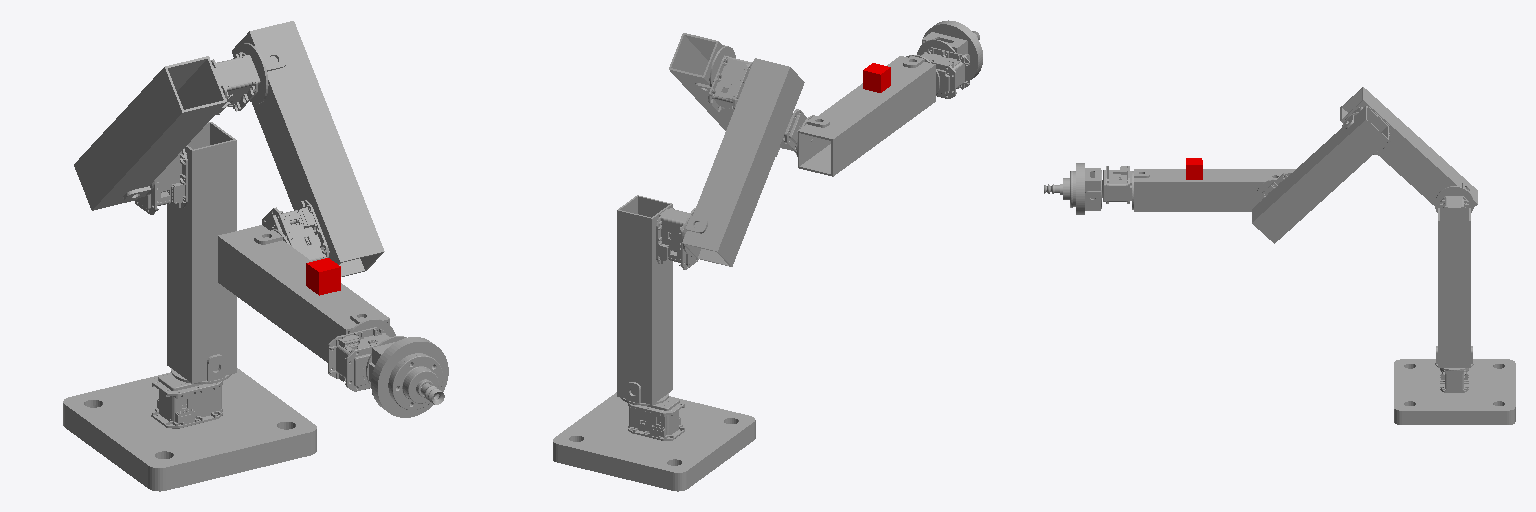
robot.urdf — kevin:
<?xml version="1.0" ?>
<!-- =================================================================================== -->
<!-- |    This document was autogenerated by xacro from urdf/kevin.xacro               | -->
<!-- |    EDITING THIS FILE BY HAND IS NOT RECOMMENDED                                 | -->
<!-- =================================================================================== -->
<robot name="kevin" xmlns:xacro="http://www.ros.org/wiki/xacro">
  <material name="silver">
    <color rgba="0.700 0.700 0.700 1.000"/>
  </material>
  <transmission name="Revolution31">
    <type>transmission_interface/SimpleTransmission</type>
    <joint name="Revolution31">
      <hardwareInterface>hardware_interface/EffortJointInterface</hardwareInterface>
    </joint>
    <actuator name="Revolution31_actr">
      <hardwareInterface>hardware_interface/EffortJointInterface</hardwareInterface>
      <mechanicalReduction>1</mechanicalReduction>
    </actuator>
  </transmission>
  <transmission name="Revolution32">
    <type>transmission_interface/SimpleTransmission</type>
    <joint name="Revolution32">
      <hardwareInterface>hardware_interface/EffortJointInterface</hardwareInterface>
    </joint>
    <actuator name="Revolution32_actr">
      <hardwareInterface>hardware_interface/EffortJointInterface</hardwareInterface>
      <mechanicalReduction>1</mechanicalReduction>
    </actuator>
  </transmission>
  <transmission name="Revolution33">
    <type>transmission_interface/SimpleTransmission</type>
    <joint name="Revolution33">
      <hardwareInterface>hardware_interface/EffortJointInterface</hardwareInterface>
    </joint>
    <actuator name="Revolution33_actr">
      <hardwareInterface>hardware_interface/EffortJointInterface</hardwareInterface>
      <mechanicalReduction>1</mechanicalReduction>
    </actuator>
  </transmission>
  <transmission name="Revolution34">
    <type>transmission_interface/SimpleTransmission</type>
    <joint name="Revolution34">
      <hardwareInterface>hardware_interface/EffortJointInterface</hardwareInterface>
    </joint>
    <actuator name="Revolution34_actr">
      <hardwareInterface>hardware_interface/EffortJointInterface</hardwareInterface>
      <mechanicalReduction>1</mechanicalReduction>
    </actuator>
  </transmission>
  <transmission name="Revolution35">
    <type>transmission_interface/SimpleTransmission</type>
    <joint name="Revolution35">
      <hardwareInterface>hardware_interface/EffortJointInterface</hardwareInterface>
    </joint>
    <actuator name="Revolution35_actr">
      <hardwareInterface>hardware_interface/EffortJointInterface</hardwareInterface>
      <mechanicalReduction>1</mechanicalReduction>
    </actuator>
  </transmission>
  <gazebo>
    <plugin filename="libgazebo_ros_control.so" name="gazebo_ros_control">
      <robotNamespace/>
      <robotSimType>gazebo_ros_control/DefaultRobotHWSim</robotSimType>
      <legacyModeNS>true</legacyModeNS>
    </plugin>
  </gazebo>
  <gazebo reference="base_link">
    <material>Gazebo/Silver</material>
    <mu1>0.2</mu1>
    <mu2>0.2</mu2>
    <selfCollide>true</selfCollide>
    <gravity>true</gravity>
  </gazebo>
  <gazebo reference="Link_1_1">
    <material>Gazebo/Silver</material>
    <mu1>0.2</mu1>
    <mu2>0.2</mu2>
    <selfCollide>true</selfCollide>
  </gazebo>
  <gazebo reference="Link_2_1">
    <material>Gazebo/Silver</material>
    <mu1>0.2</mu1>
    <mu2>0.2</mu2>
    <selfCollide>true</selfCollide>
  </gazebo>
  <gazebo reference="Link_3_1">
    <material>Gazebo/Silver</material>
    <mu1>0.2</mu1>
    <mu2>0.2</mu2>
    <selfCollide>true</selfCollide>
  </gazebo>
  <gazebo reference="Link_4_1">
    <material>Gazebo/Silver</material>
    <mu1>0.2</mu1>
    <mu2>0.2</mu2>
    <selfCollide>true</selfCollide>
  </gazebo>
  <gazebo reference="Link_5_1">
    <material>Gazebo/Silver</material>
    <mu1>0.2</mu1>
    <mu2>0.2</mu2>
    <selfCollide>true</selfCollide>
  </gazebo>
  <gazebo reference="camera_link">
    <material>Gazebo/Red</material>
  </gazebo>
  <!-- camera -->
  <gazebo reference="camera_link">
    <sensor name="camera1" type="camera">
      <update_rate>30.0</update_rate>
      <camera name="head">
        <horizontal_fov>1.3962634</horizontal_fov>
        <image>
          <width>800</width>
          <height>800</height>
          <format>R8G8B8</format>
        </image>
        <clip>
          <near>0.002</near>
          <far>300</far>
        </clip>
        <noise>
          <type>gaussian</type>
          <!-- Noise is sampled independently per pixel on each frame.
               That pixel's noise value is added to each of its color
               channels, which at that point lie in the range [0,1]. -->
          <mean>0.0</mean>
          <stddev>0.007</stddev>
        </noise>
      </camera>
      <plugin filename="libgazebo_ros_camera.so" name="camera_controller">
        <alwaysOn>true</alwaysOn>
        <updateRate>0.0</updateRate>
        <cameraName>camera1</cameraName>
        <imageTopicName>image_raw</imageTopicName>
        <cameraInfoTopicName>camera_info</cameraInfoTopicName>
        <frameName>camera_link</frameName>
        <hackBaseline>0.07</hackBaseline>
        <distortionK1>0.0</distortionK1>
        <distortionK2>0.0</distortionK2>
        <distortionK3>0.0</distortionK3>
        <distortionT1>0.0</distortionT1>
        <distortionT2>0.0</distortionT2>
      </plugin>
    </sensor>
  </gazebo>
  <material name="red">
    <color rgba="1 0.0 0.0 1.000"/>
  </material>
  <!-- Size of square 'camera' box -->
  <joint name="camera_joint" type="fixed">
    <axis xyz="0 0 0"/>
    <origin rpy="0 0 -1.57" xyz="-0.02 -0.1 0.03"/>
    <parent link="Link_4_1"/>
    <child link="camera_link"/>
  </joint>
  <!-- Camera -->
  <link name="camera_link">
    <collision>
      <origin rpy="0 0 0" xyz="0 0 0"/>
      <geometry>
        <box size="0.02 0.02 0.02"/>
      </geometry>
    </collision>
    <visual>
      <origin rpy="0 0 0" xyz="0 0 0"/>
      <geometry>
        <box size="0.02 0.02 0.02"/>
      </geometry>
      <material name="red"/>
    </visual>
    <inertial>
      <mass value="1e-5"/>
      <origin rpy="0 0 0" xyz="0 0 0"/>
      <inertia ixx="1e-6" ixy="0" ixz="0" iyy="1e-6" iyz="0" izz="1e-6"/>
    </inertial>
  </link>
  <link name="base_link">
    <inertial>
      <origin rpy="0 0 0" xyz="-0.07500900413459072 0.07499878591110573 0.010035808613354931"/>
      <mass value="3.3827666003481562"/>
      <inertia ixx="0.00634" ixy="-0.0" ixz="1e-06" iyy="0.006337" iyz="0.0" izz="0.012426"/>
    </inertial>
    <visual>
      <origin rpy="0 0 0" xyz="0 0 0"/>
      <geometry>
        <mesh filename="package://kevin_description/meshes/base_link.stl" scale="0.001 0.001 0.001"/>
      </geometry>
      <material name="silver"/>
    </visual>
    <collision>
      <origin rpy="0 0 0" xyz="0 0 0"/>
      <geometry>
        <mesh filename="package://kevin_description/meshes/base_link.stl" scale="0.001 0.001 0.001"/>
      </geometry>
    </collision>
  </link>
  <link name="Link_1_1">
    <inertial>
      <origin rpy="0 0 0" xyz="-0.0015441084349696876 -6.6837240350753335e-06 0.1039912626175992"/>
      <mass value="0.5045589007213359"/>
      <inertia ixx="0.001909" ixy="-0.0" ixz="5e-05" iyy="0.001934" iyz="0.0" izz="0.000262"/>
    </inertial>
    <visual>
      <origin rpy="0 0 0" xyz="0.064323 -0.074799 -0.053627"/>
      <geometry>
        <mesh filename="package://kevin_description/meshes/Link_1_1.stl" scale="0.001 0.001 0.001"/>
      </geometry>
      <material name="silver"/>
    </visual>
    <collision>
      <origin rpy="0 0 0" xyz="0.064323 -0.074799 -0.053627"/>
      <geometry>
        <mesh filename="package://kevin_description/meshes/Link_1_1.stl" scale="0.001 0.001 0.001"/>
      </geometry>
    </collision>
  </link>
  <link name="Link_2_1">
    <inertial>
      <origin rpy="0 0 0" xyz="-0.021316145986816276 -0.05651058335050174 0.05659164796984706"/>
      <mass value="0.5045589194139898"/>
      <inertia ixx="0.001867" ixy="2.2e-05" ixz="-2.4e-05" iyy="0.001083" iyz="0.000815" izz="0.001078"/>
    </inertial>
    <visual>
      <origin rpy="0 0 0" xyz="0.120064 -0.074708 -0.244413"/>
      <geometry>
        <mesh filename="package://kevin_description/meshes/Link_2_1.stl" scale="0.001 0.001 0.001"/>
      </geometry>
      <material name="silver"/>
    </visual>
    <collision>
      <origin rpy="0 0 0" xyz="0.120064 -0.074708 -0.244413"/>
      <geometry>
        <mesh filename="package://kevin_description/meshes/Link_2_1.stl" scale="0.001 0.001 0.001"/>
      </geometry>
    </collision>
  </link>
  <link name="Link_3_1">
    <inertial>
      <origin rpy="0 0 0" xyz="0.02098034285000687 -0.051351832195375195 -0.05201761409226252"/>
      <mass value="0.5045589000535378"/>
      <inertia ixx="0.001843" ixy="-2.1e-05" ixz="-2.2e-05" iyy="0.00107" iyz="-0.000803" izz="0.001066"/>
    </inertial>
    <visual>
      <origin rpy="0 0 0" xyz="0.08731 0.040026 -0.362097"/>
      <geometry>
        <mesh filename="package://kevin_description/meshes/Link_3_1.stl" scale="0.001 0.001 0.001"/>
      </geometry>
      <material name="silver"/>
    </visual>
    <collision>
      <origin rpy="0 0 0" xyz="0.08731 0.040026 -0.362097"/>
      <geometry>
        <mesh filename="package://kevin_description/meshes/Link_3_1.stl" scale="0.001 0.001 0.001"/>
      </geometry>
    </collision>
  </link>
  <link name="Link_4_1">
    <inertial>
      <origin rpy="0 0 0" xyz="-0.023305400358932027 -0.07835640375461944 2.6229984602388345e-05"/>
      <mass value="0.5096750020889563"/>
      <inertia ixx="0.002064" ixy="-4.1e-05" ixz="0.0" iyy="0.000246" iyz="2e-06" izz="0.002071"/>
    </inertial>
    <visual>
      <origin rpy="0 0 0" xyz="0.120064 0.146092 -0.253375"/>
      <geometry>
        <mesh filename="package://kevin_description/meshes/Link_4_1.stl" scale="0.001 0.001 0.001"/>
      </geometry>
      <material name="silver"/>
    </visual>
    <collision>
      <origin rpy="0 0 0" xyz="0.120064 0.146092 -0.253375"/>
      <geometry>
        <mesh filename="package://kevin_description/meshes/Link_4_1.stl" scale="0.001 0.001 0.001"/>
      </geometry>
    </collision>
  </link>
  <link name="Link_5_1">
    <inertial>
      <origin rpy="0 0 0" xyz="-0.00026252289388073446 -0.030396403000808536 8.109964721125795e-05"/>
      <mass value="0.4083077929947924"/>
      <inertia ixx="0.00013" ixy="-0.0" ixz="0.0" iyy="0.000176" iyz="0.0" izz="0.000132"/>
    </inertial>
    <visual>
      <origin rpy="0 0 0" xyz="0.14351 0.35822 -0.254287"/>
      <geometry>
        <mesh filename="package://kevin_description/meshes/Link_5_1.stl" scale="0.001 0.001 0.001"/>
      </geometry>
      <material name="silver"/>
    </visual>
    <collision>
      <origin rpy="0 0 0" xyz="0.14351 0.35822 -0.254287"/>
      <geometry>
        <mesh filename="package://kevin_description/meshes/Link_5_1.stl" scale="0.001 0.001 0.001"/>
      </geometry>
    </collision>
  </link>
  <joint name="Revolution31" type="continuous">
    <origin rpy="0 0 0" xyz="-0.064323 0.074799 0.053627"/>
    <parent link="base_link"/>
    <child link="Link_1_1"/>
    <axis xyz="0.0 0.0 1.0"/>
  </joint>
  <joint name="Revolution32" type="continuous">
    <origin rpy="0 0 0" xyz="-0.055741 -9.1e-05 0.190786"/>
    <parent link="Link_1_1"/>
    <child link="Link_2_1"/>
    <axis xyz="-1.0 -0.0 0.0"/>
  </joint>
  <joint name="Revolution33" type="continuous">
    <origin rpy="0 0 0" xyz="0.032754 -0.114734 0.117684"/>
    <parent link="Link_2_1"/>
    <child link="Link_3_1"/>
    <axis xyz="1.0 -0.0 -0.0"/>
  </joint>
  <joint name="Revolution34" type="continuous">
    <origin rpy="0 0 0" xyz="-0.032754 -0.106066 -0.108722"/>
    <parent link="Link_3_1"/>
    <child link="Link_4_1"/>
    <axis xyz="-1.0 -0.0 0.0"/>
  </joint>
  <joint name="Revolution35" type="continuous">
    <origin rpy="0 0 0" xyz="-0.023446 -0.212128 0.000912"/>
    <parent link="Link_4_1"/>
    <child link="Link_5_1"/>
    <axis xyz="0.0 -1.0 -0.0"/>
  </joint>
  <!-- Used for fixing robot to Gazebo 'base_link' -->
  <link name="world"/>
  <joint name="fixed" type="fixed">
    <origin rpy="0 0 0" xyz="0.07500900413459072 -0.07499878591110573 0"/>
    <parent link="world"/>
    <child link="base_link"/>
  </joint>
</robot>

--- What the picture shows (computed from the rendered views, not written in the file) ---
3 views of the same robot in one strip: view 1: azimuth 30°, elevation 25°; view 2: azimuth 150°, elevation 25°; view 3: azimuth 270°, elevation 25° (orthographic).
Model kevin with 8 links and 7 joints (5 continuous, 2 fixed), rooted at world, posed all joints at 0.
Links seen in each view (by area): view 1: base_link, Link_3_1, Link_1_1, Link_2_1, Link_4_1, Link_5_1, camera_link; view 2: Link_2_1, base_link, Link_1_1, Link_4_1, Link_3_1, Link_5_1, camera_link; view 3: base_link, Link_3_1, Link_4_1, Link_1_1, Link_2_1, Link_5_1.
Boxes of the visible links, x1,y1,x2,y2 form: base_link: [63, 368, 316, 491]; Link_3_1: [232, 21, 384, 276]; Link_1_1: [135, 122, 236, 383]; Link_2_1: [74, 52, 260, 210]; Link_4_1: [218, 225, 395, 391]; Link_5_1: [366, 336, 448, 417]; camera_link: [306, 258, 340, 295]; Link_2_1: [682, 55, 804, 266]; base_link: [553, 392, 755, 491]; Link_1_1: [617, 195, 698, 405]; Link_4_1: [796, 47, 969, 176]; Link_3_1: [669, 33, 806, 156]; Link_5_1: [917, 20, 982, 79]; camera_link: [863, 63, 890, 92]; base_link: [1394, 359, 1515, 424]; Link_3_1: [1252, 106, 1388, 243]; Link_4_1: [1103, 166, 1295, 211]; Link_1_1: [1435, 196, 1473, 370]; Link_2_1: [1340, 87, 1477, 212]; Link_5_1: [1044, 163, 1102, 214].
Size in the robot's own frame: 0.1822 by 0.581 by 0.3957 metres.
6 mesh visuals loaded from 6 distinct referenced files (6 binary STL).
